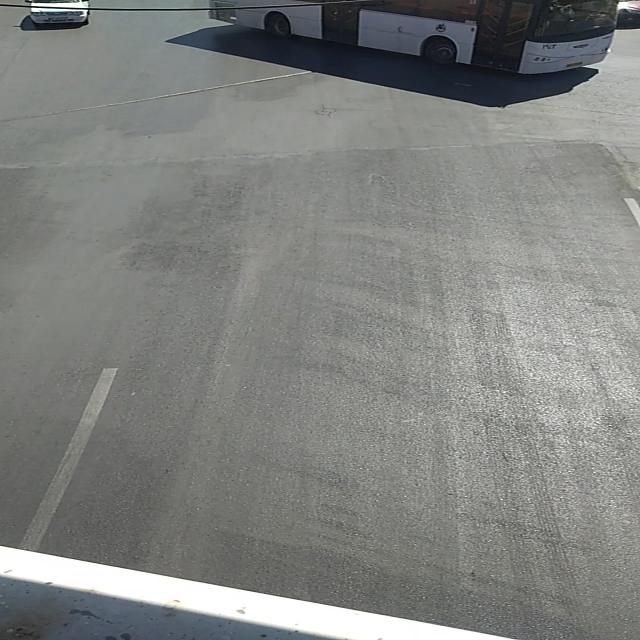bus: (204, 1, 624, 74)
car: (26, 2, 90, 24)
